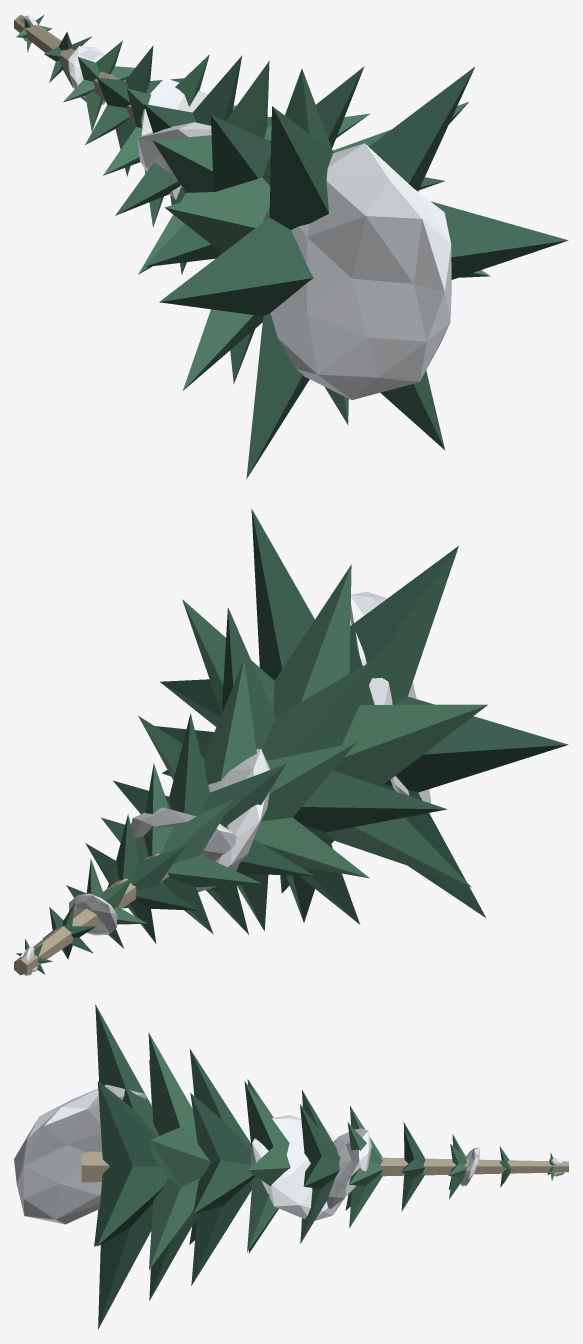
File: TreeConiferB4.fbx
The picture shows the model from 3 angles, top to bottom: view 1: azimuth 30°, elevation 25°; view 2: azimuth 150°, elevation 25°; view 3: azimuth 270°, elevation 25°; orthographic projection. The views are drawn at different scales.
Visible parts, largest first — view 1: M_Tree_Pine_Dark, M_Tree_Snow, M_Tree_Pine_Mid, M_Tree_PaleWood; view 2: M_Tree_Pine_Dark, M_Tree_Pine_Mid, M_Tree_Snow, M_Tree_PaleWood; view 3: M_Tree_Pine_Dark, M_Tree_Pine_Mid, M_Tree_Snow, M_Tree_PaleWood.
Boxes of the visible parts, x1,y1,x2,y2 form: M_Tree_Pine_Dark: (44, 31, 568, 479); M_Tree_Snow: (19, 15, 451, 399); M_Tree_Pine_Mid: (16, 14, 490, 424); M_Tree_PaleWood: (14, 15, 135, 123); M_Tree_Pine_Dark: (43, 509, 568, 959); M_Tree_Pine_Mid: (16, 564, 487, 974); M_Tree_Snow: (20, 591, 430, 975); M_Tree_PaleWood: (14, 853, 169, 975); M_Tree_Pine_Dark: (94, 1004, 510, 1329); M_Tree_Pine_Mid: (148, 1032, 554, 1300); M_Tree_Snow: (14, 1084, 564, 1224); M_Tree_PaleWood: (81, 1151, 568, 1182).
Bounding box in the file's own units: 2198 × 1995 × 3756.
